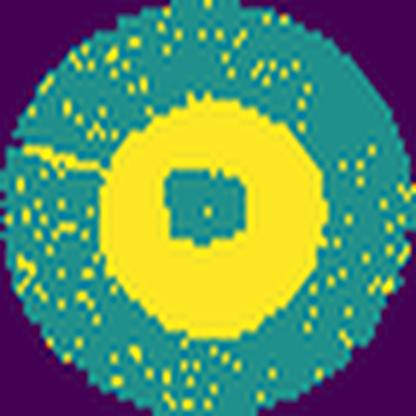Donut: (92, 93, 334, 345)
